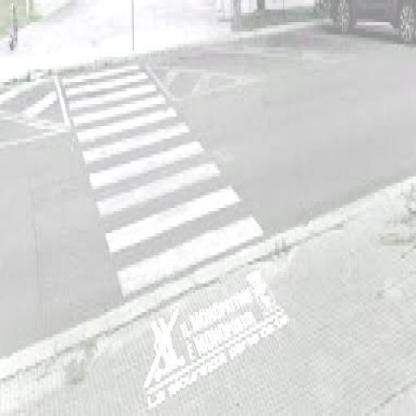crosswalk: (89, 154, 243, 258)
